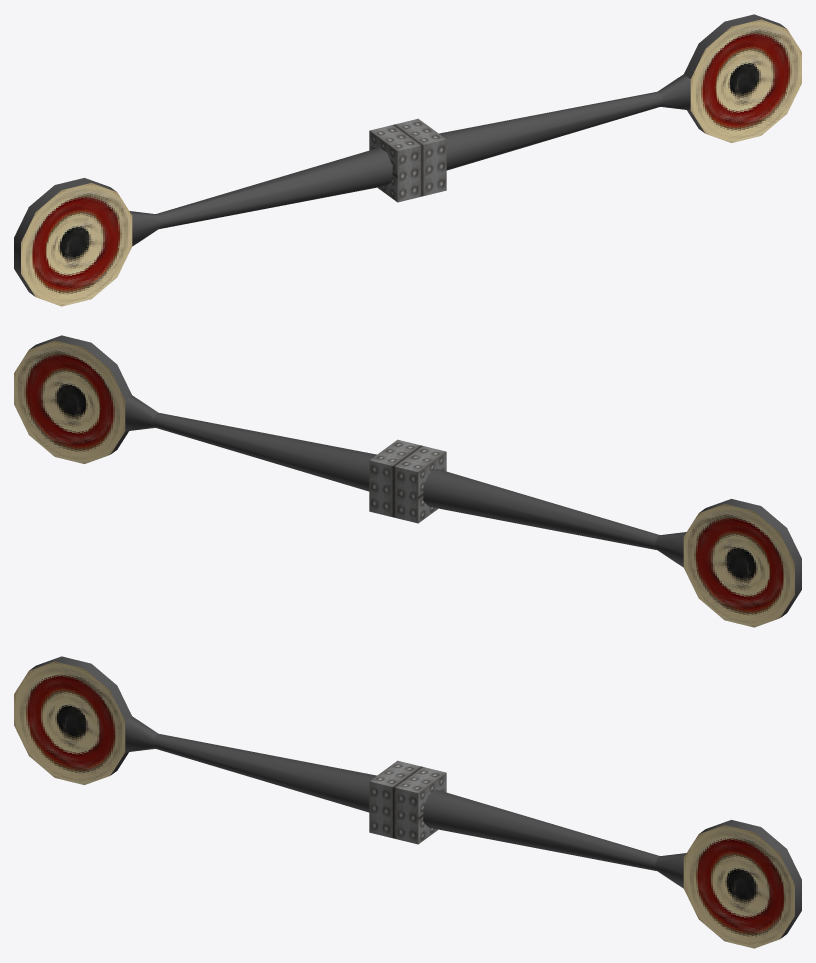
The model's file is P_Modul_17.FBX.
3 views of the same model, one above another, from view 1: azimuth 30°, elevation 25°; view 2: azimuth 150°, elevation 25°; view 3: azimuth 330°, elevation 25° (orthographic).
Visible parts, largest first — view 1: P_Modul_17; view 2: P_Modul_17; view 3: P_Modul_17.
Boxes of the visible parts, box(x1,y1,x2,y2) form: P_Modul_17: box(14, 14, 801, 306); P_Modul_17: box(14, 335, 801, 627); P_Modul_17: box(14, 656, 801, 948).
Size of the model in its own units: 23.26 by 3.31 by 1.46.
3 materials, 2 textured.
